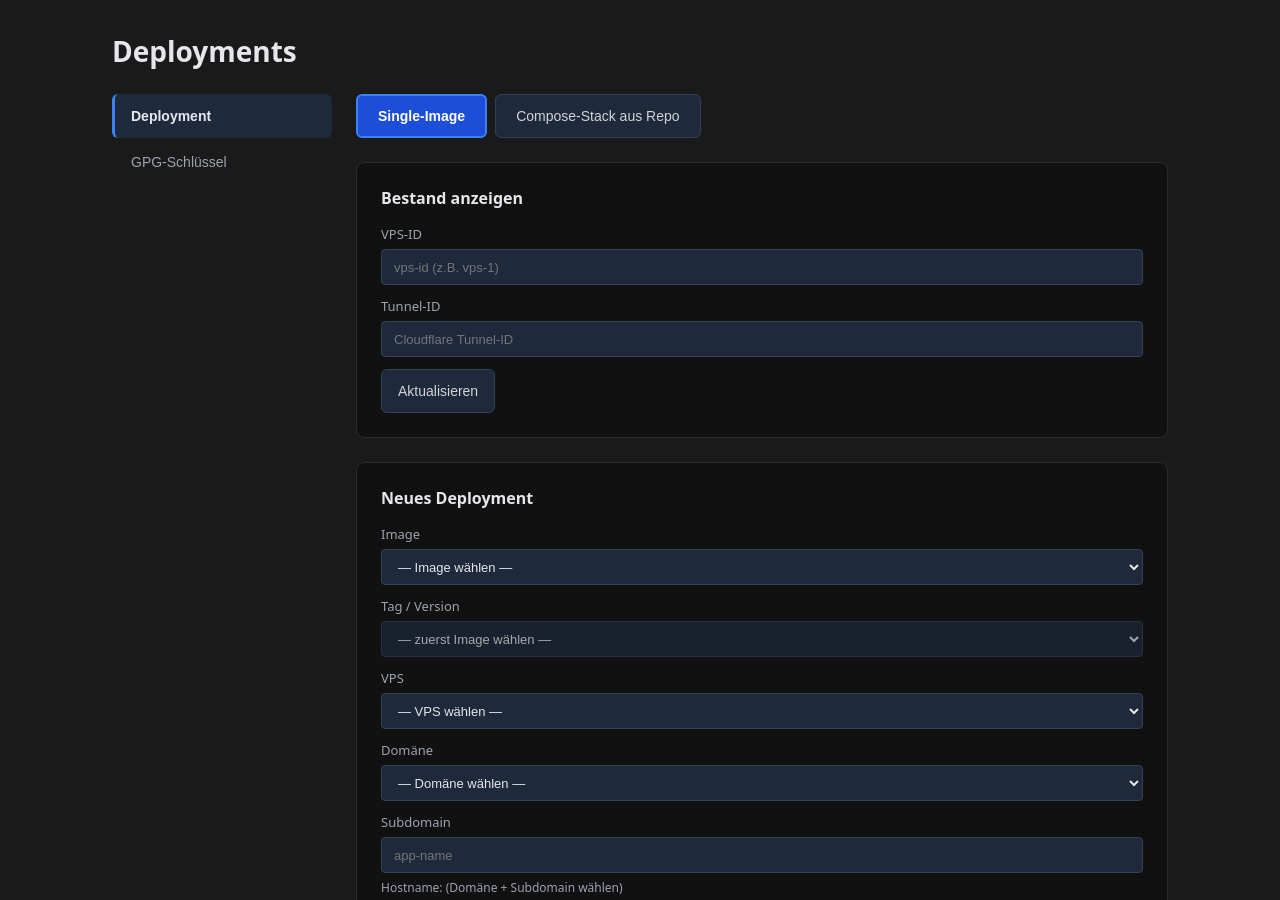
DeploymentsView — config-Verzeichnis-Mount (deploy-config-volume-mount.md AC8) › AC8: config-App-Feld ist manuell überschreibbar; Host-Pfad-Vorschau folgt der Eingabe
Select "brew-assistent" in the dropdown with id "deploy-image-select" at (762, 567), box [381,549,1143,585]
(page scrolled)
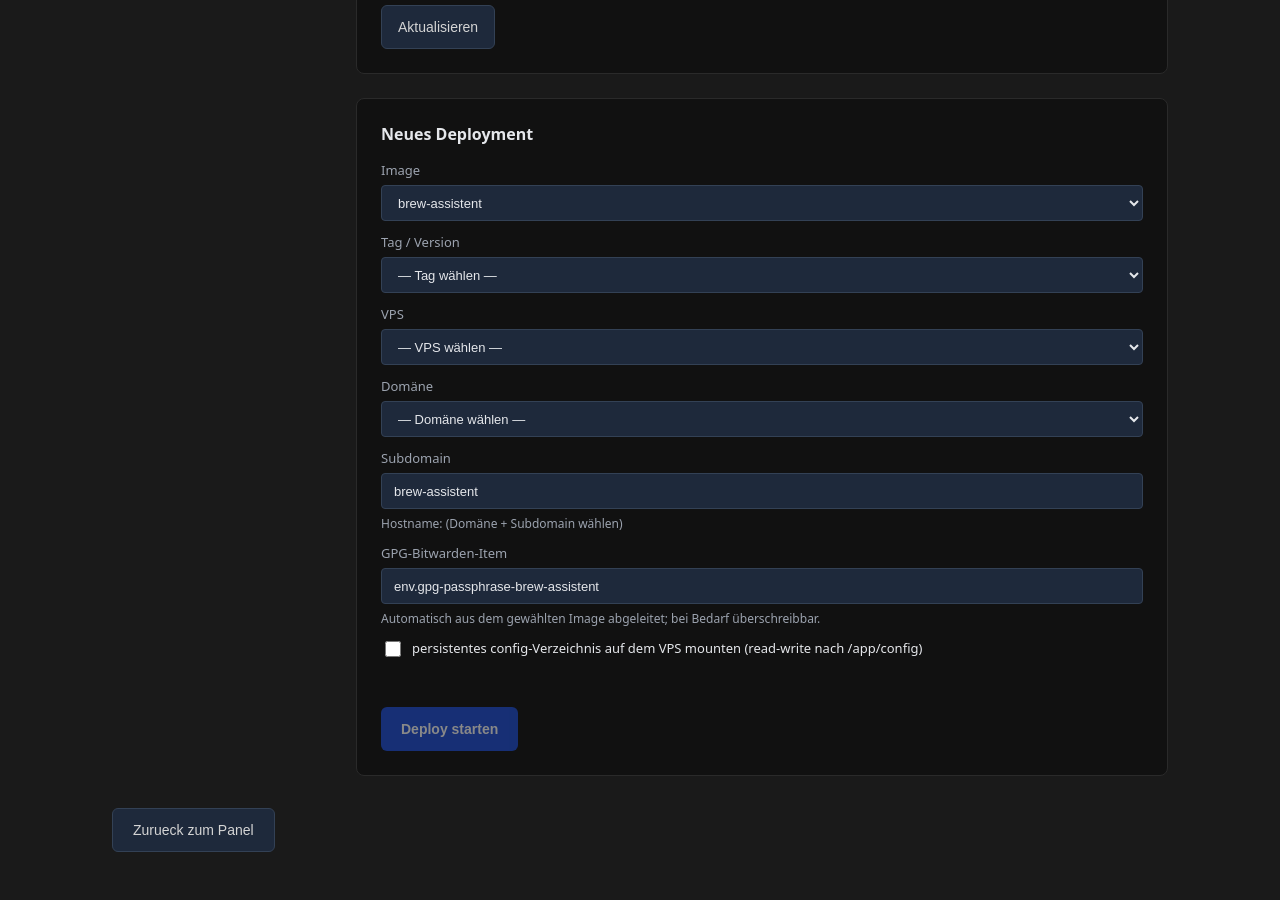
Click the checkbox with id "deploy-requires-config" at (393, 649), box [385,641,401,657]
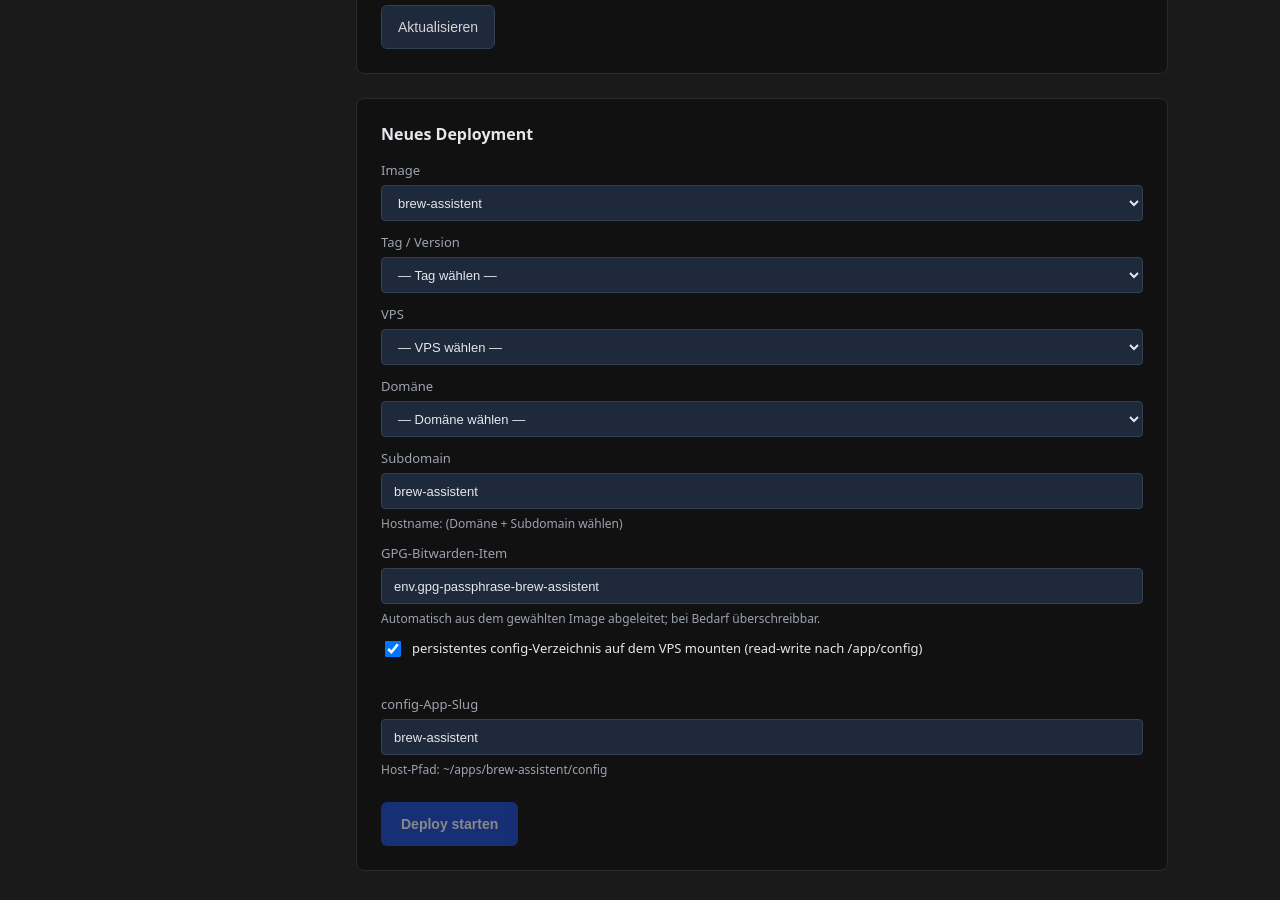
Expected: the field with id "deploy-config-app" holds "brew-assistent"
Replace the text in the field with id "deploy-config-app" with "custom-app-slug" at (762, 737), box [381,719,1143,755]
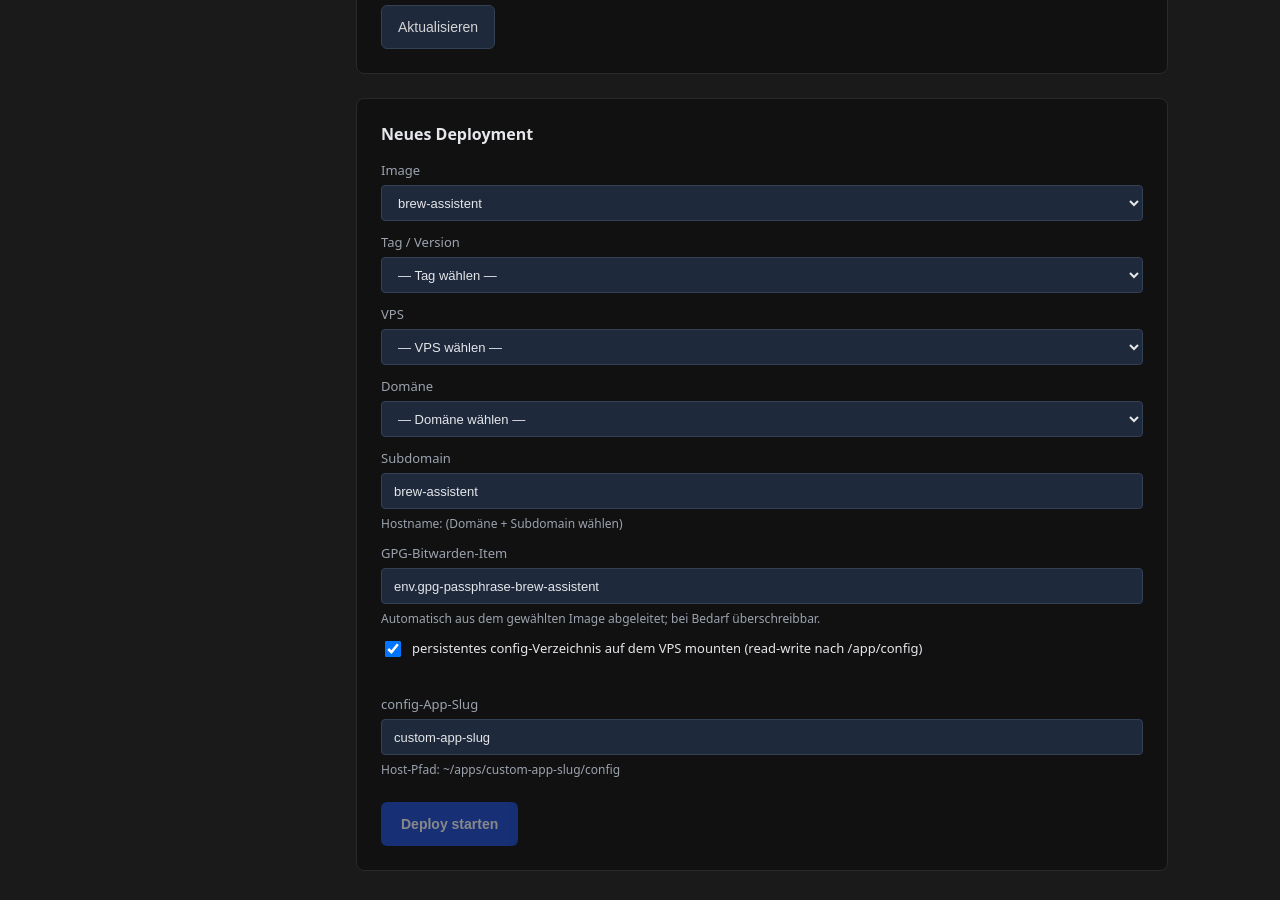
Expected: the text with id "deploy-config-host-path-preview" shows "~/apps/custom-app-slug/config", [381,761,620,778]
